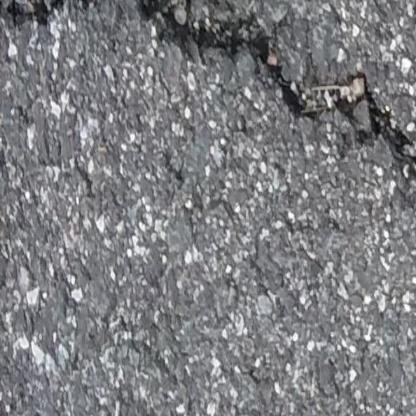Cracks: (127, 0, 416, 185), (0, 0, 70, 28), (75, 0, 101, 8)
